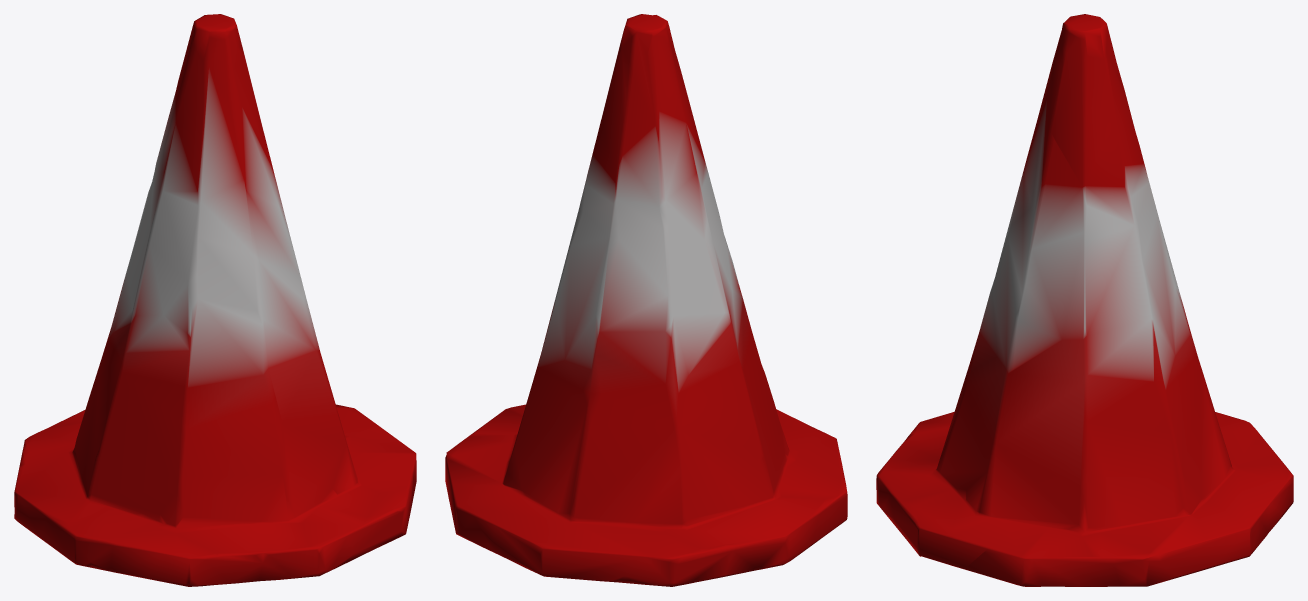
The model's file is gen3d-traffic-cone-lod1.glb.
The picture shows the model from 3 angles, left to right: view 1: azimuth 30°, elevation 25°; view 2: azimuth 150°, elevation 25°; view 3: azimuth 270°, elevation 25°; orthographic projection.
Parts seen in each view (by area): view 1: part_0; view 2: part_0; view 3: part_0.
Boxes of the visible parts, x1,y1,x2,y2 form: part_0: [14, 14, 416, 586]; part_0: [445, 14, 847, 586]; part_0: [876, 14, 1293, 586].
Bounding box in the file's own units: 0.7461 × 1 × 0.7863.
